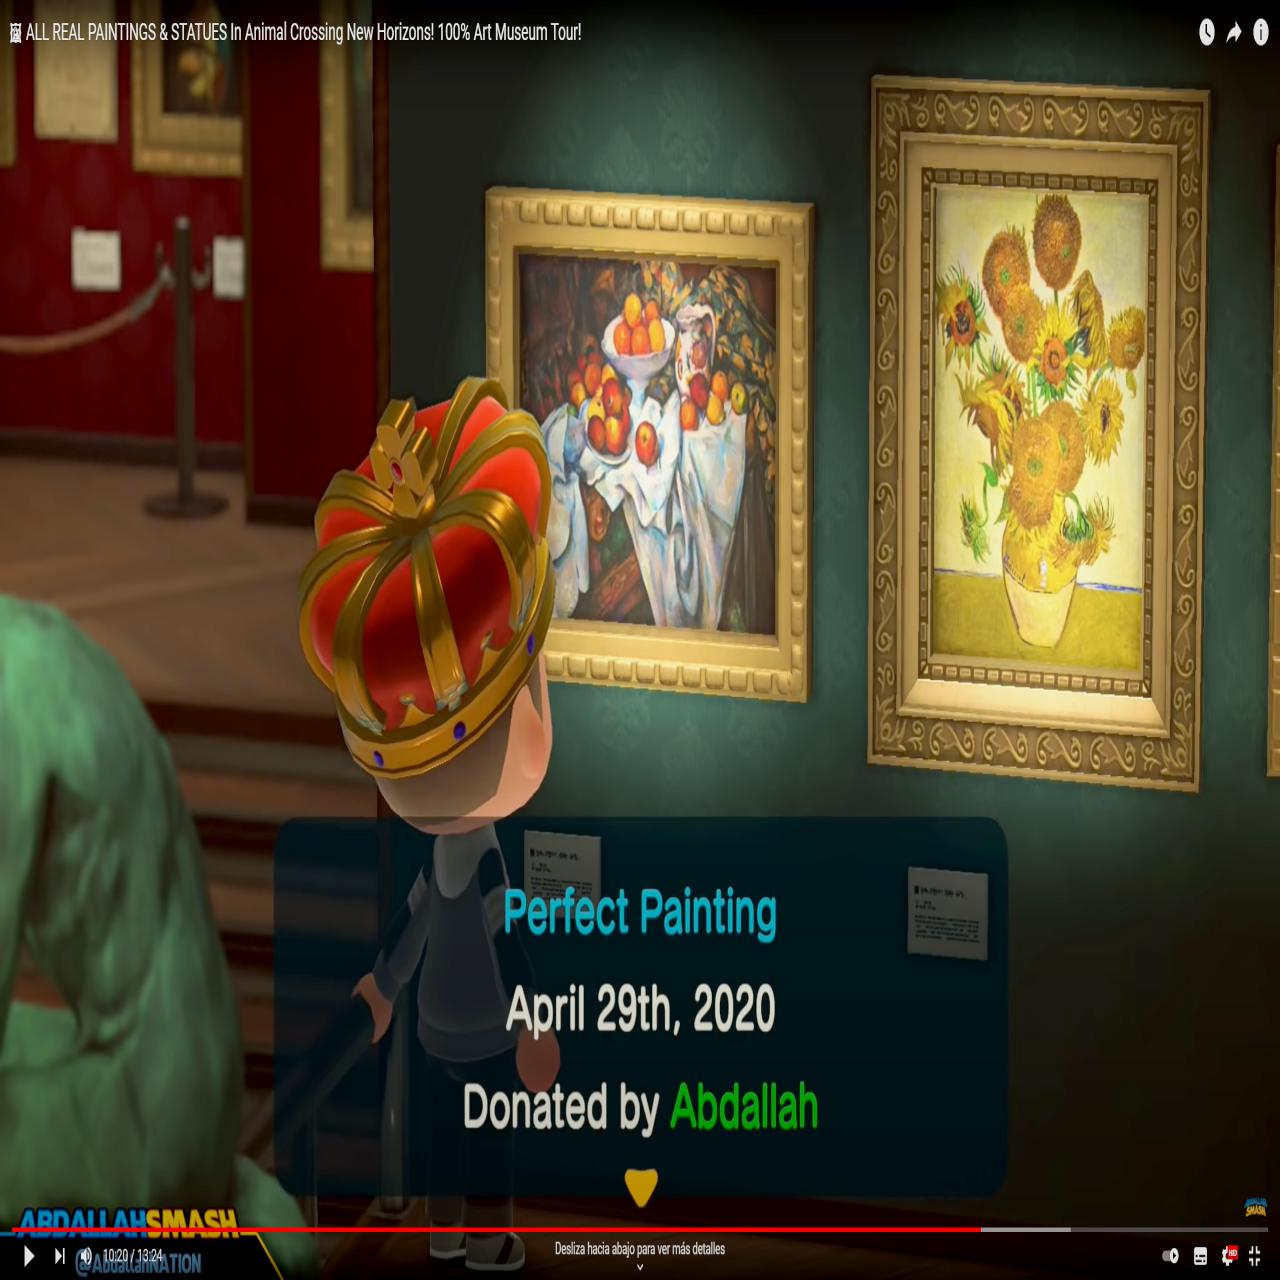AppleOrange: (518, 251, 779, 645)
Sunflower: (934, 184, 1148, 690)
